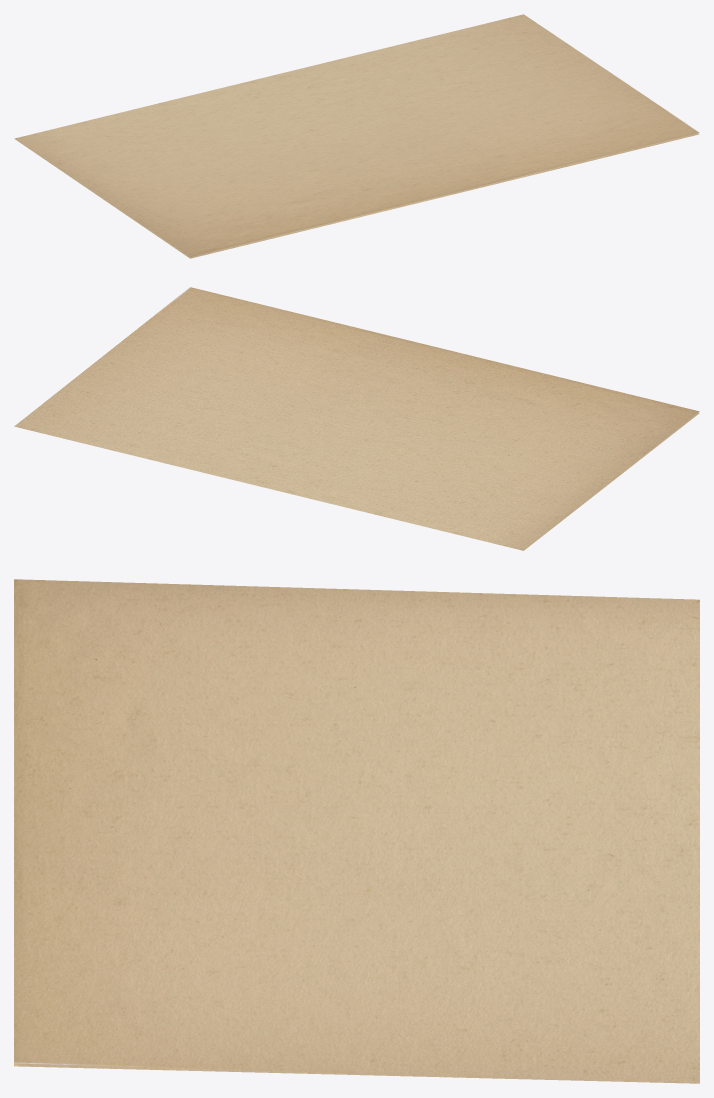
File: letter.glb
The picture shows the model from 3 angles, top to bottom: view 1: azimuth 30°, elevation 25°; view 2: azimuth 150°, elevation 25°; view 3: azimuth 270°, elevation 25°; orthographic projection. The views are drawn at different scales.
Parts seen in each view (by area): view 1: bottomPaper, topPaper; view 2: bottomPaper; view 3: bottomPaper, topPaper.
Boxes of the visible parts, x1,y1,x2,y2 form: bottomPaper: [14, 14, 699, 256]; topPaper: [27, 133, 699, 258]; bottomPaper: [14, 287, 699, 550]; bottomPaper: [14, 579, 699, 1083]; topPaper: [14, 1063, 690, 1083].
Size of the model in its own units: 1.02 by 0.0201 by 0.6111.
Materials: 1 (1 with a texture image).
